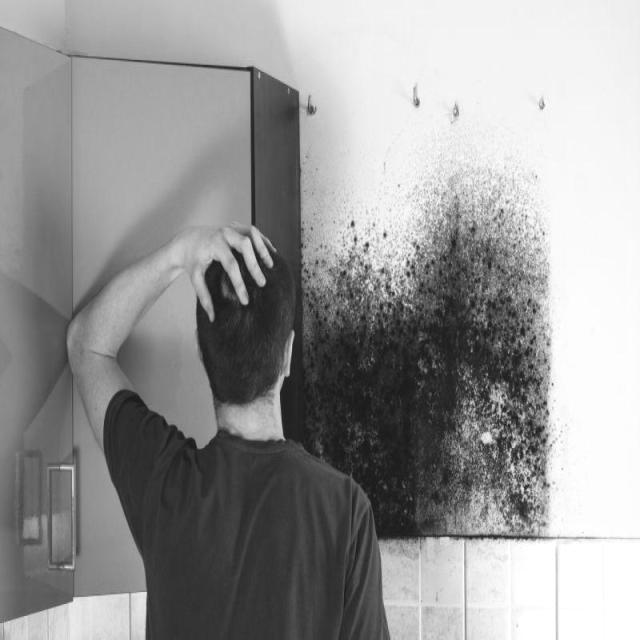stain marks: (272, 56, 578, 550)
